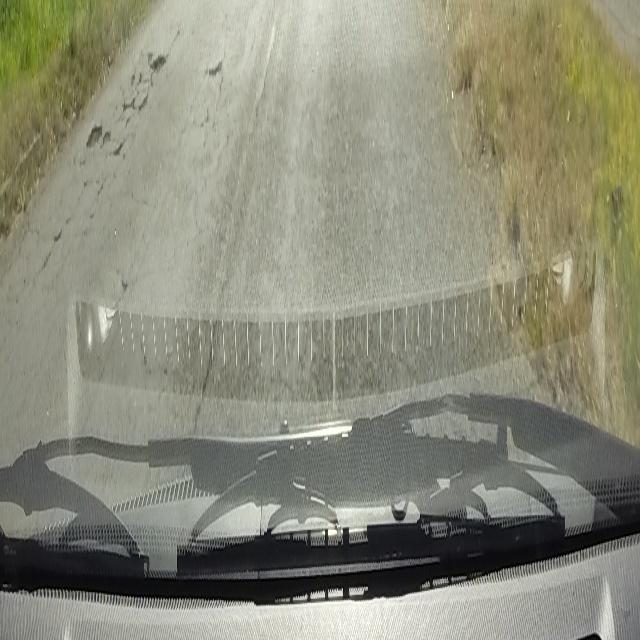pothole: (86, 49, 165, 158), (205, 60, 228, 94)
